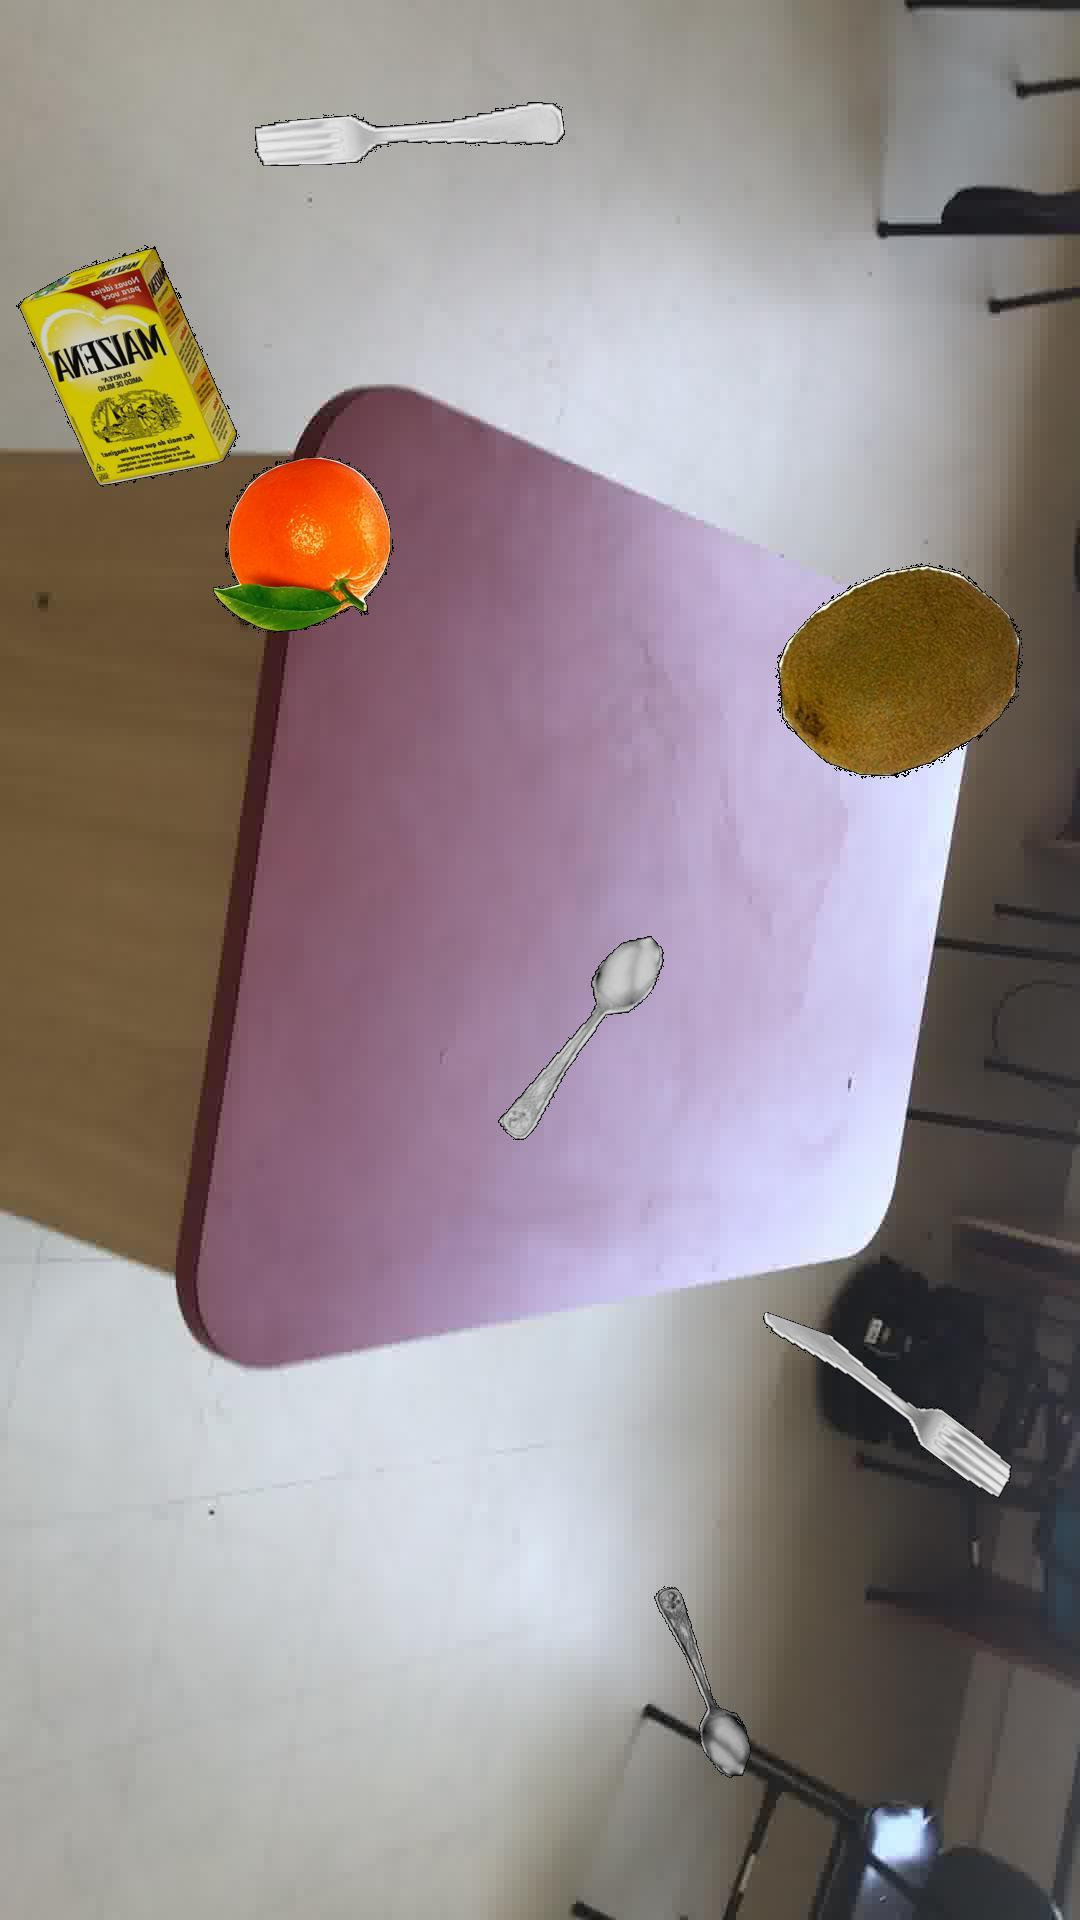fork: (762, 1311, 1010, 1497), (253, 100, 563, 165)
kiwi: (775, 563, 1019, 777)
orange: (211, 455, 389, 632)
spoon: (497, 935, 662, 1138), (653, 1585, 749, 1776)
